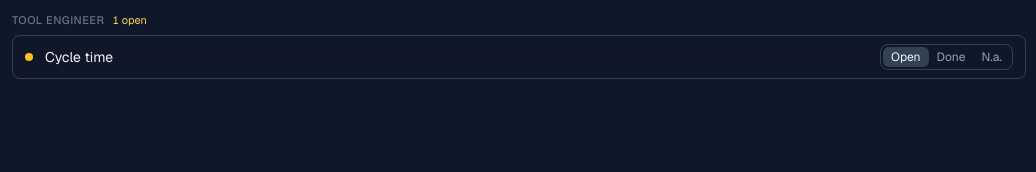
Test: ReleaseChecklist › P3-19: the cycle-time row says to pick Unchanged or Changed first
Step 1. Click the radio button with test id "release-check-cycle_time_tool-done" → (951, 56), box [929,46,973,66]
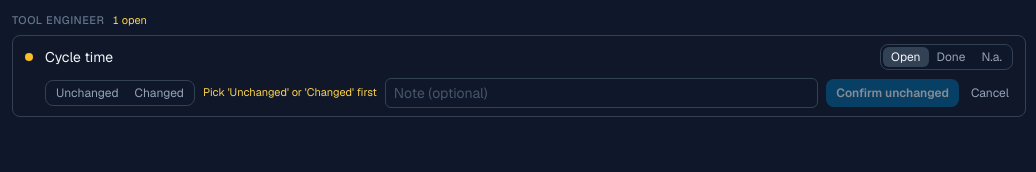
Result: the text with test id "release-check-cycle_time_tool-pick" shows "Unchanged" at [203,85,377,99]
Step 2. Click the radio button with test id "release-check-cycle_time_tool-unchanged" → (87, 92), box [48,82,126,102]
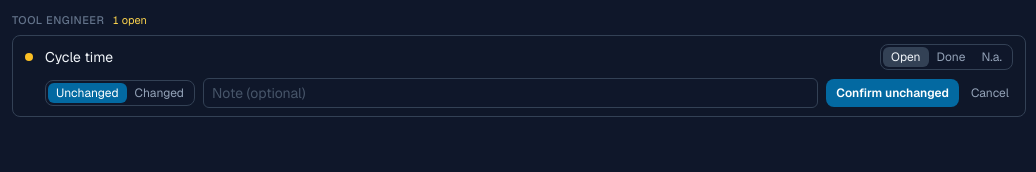
Result: the text with test id "release-check-cycle_time_tool-pick" is gone
